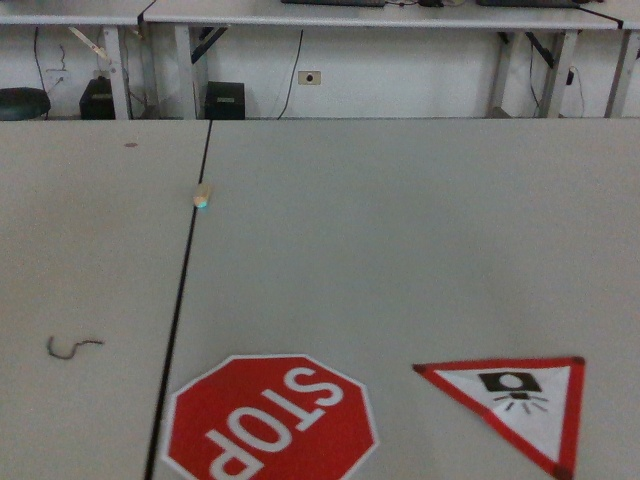camera: (410, 354, 592, 480)
stop: (162, 352, 381, 480)
